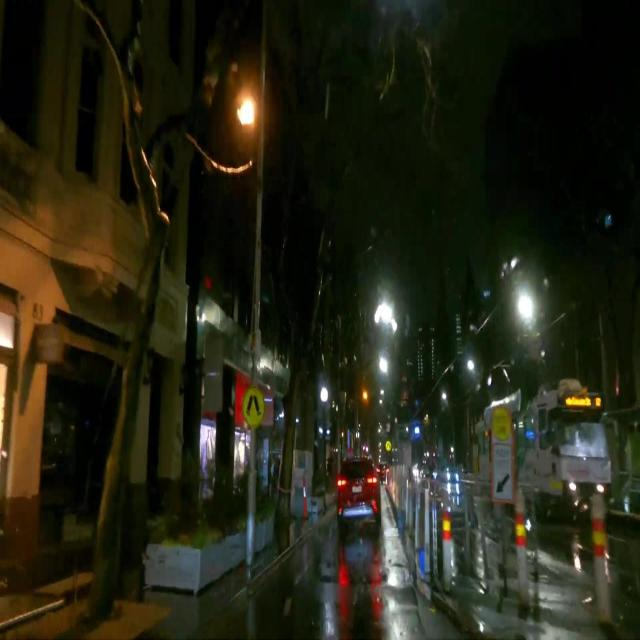Car: (333, 459, 380, 523)
